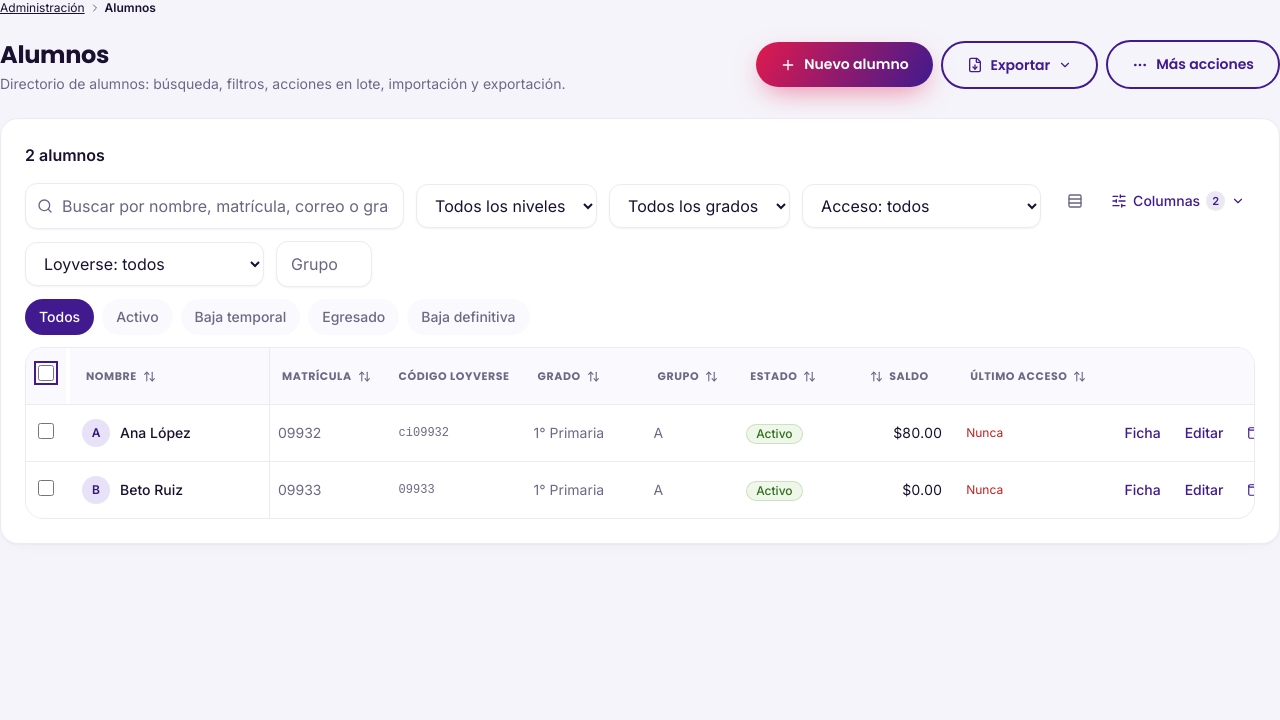
Test: AdminStudents on DataTable v2 (Data Ops Phase 3) › keyboard-only: select, pick a status, see the wallet warning in the plan, confirm
Check: the link "Ana López" is shown, box [120, 423, 191, 443]
Type keys " "
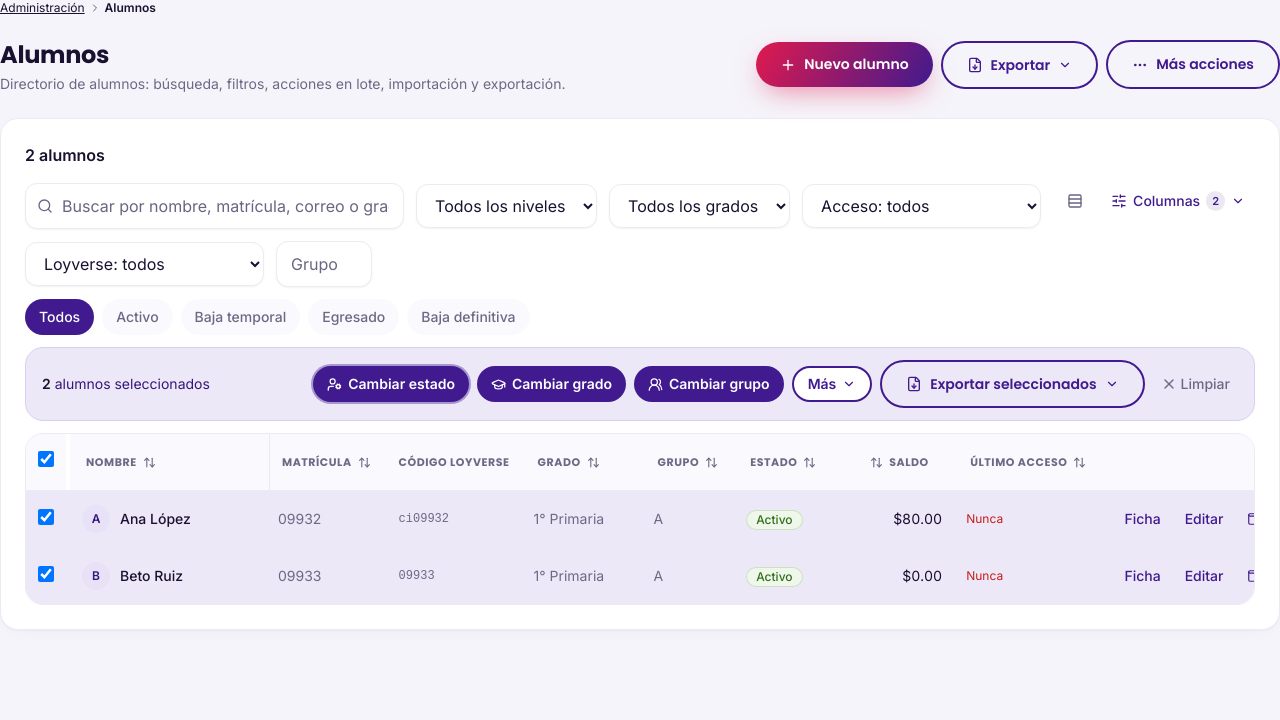
Check: the element named "Acciones en lote" shows "2 alumnos seleccionados", box [25, 347, 1255, 421]
Press Enter
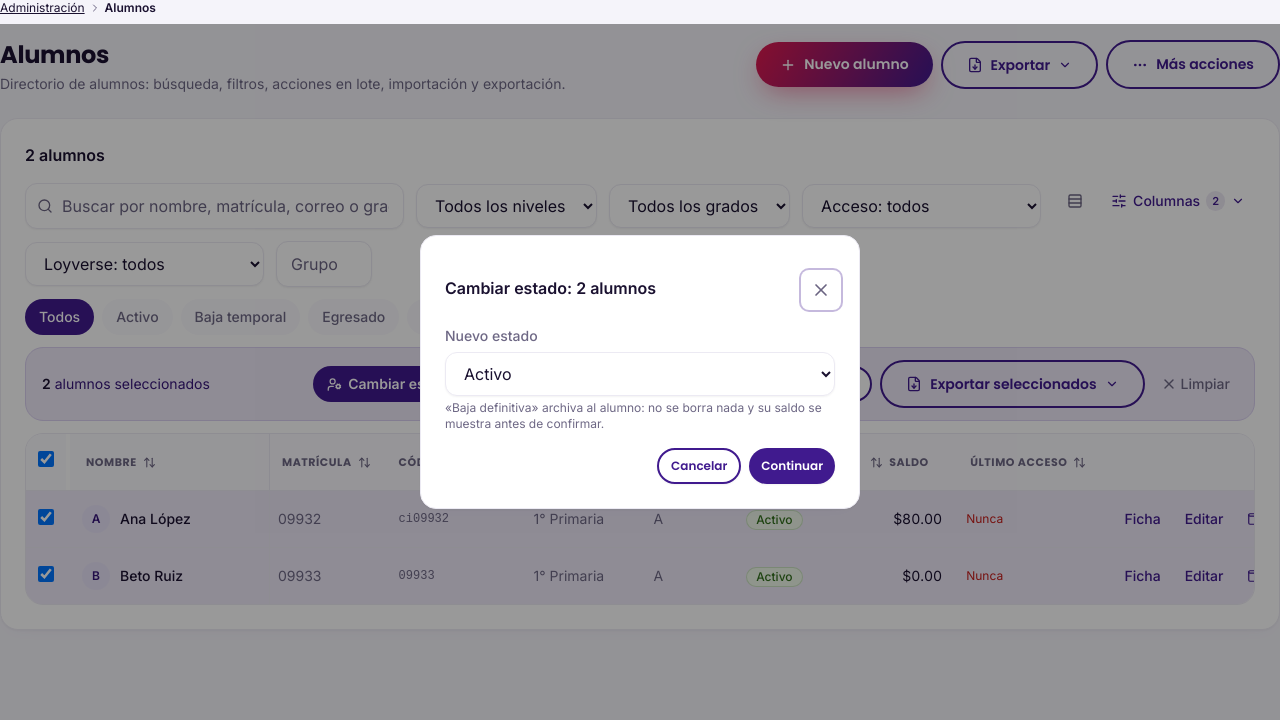
Select "Baja definitiva" in the dropdown labelled "Nuevo estado". click: (640, 374)
box: [445, 352, 835, 396]
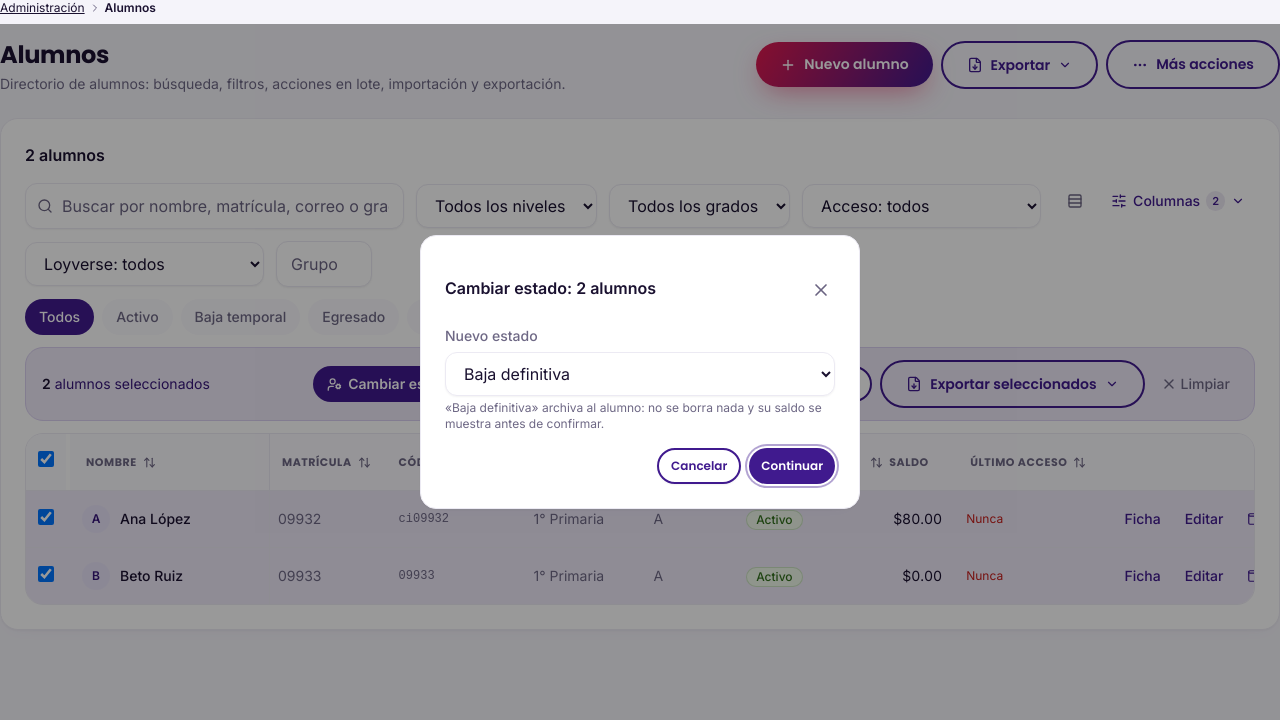
Press Enter
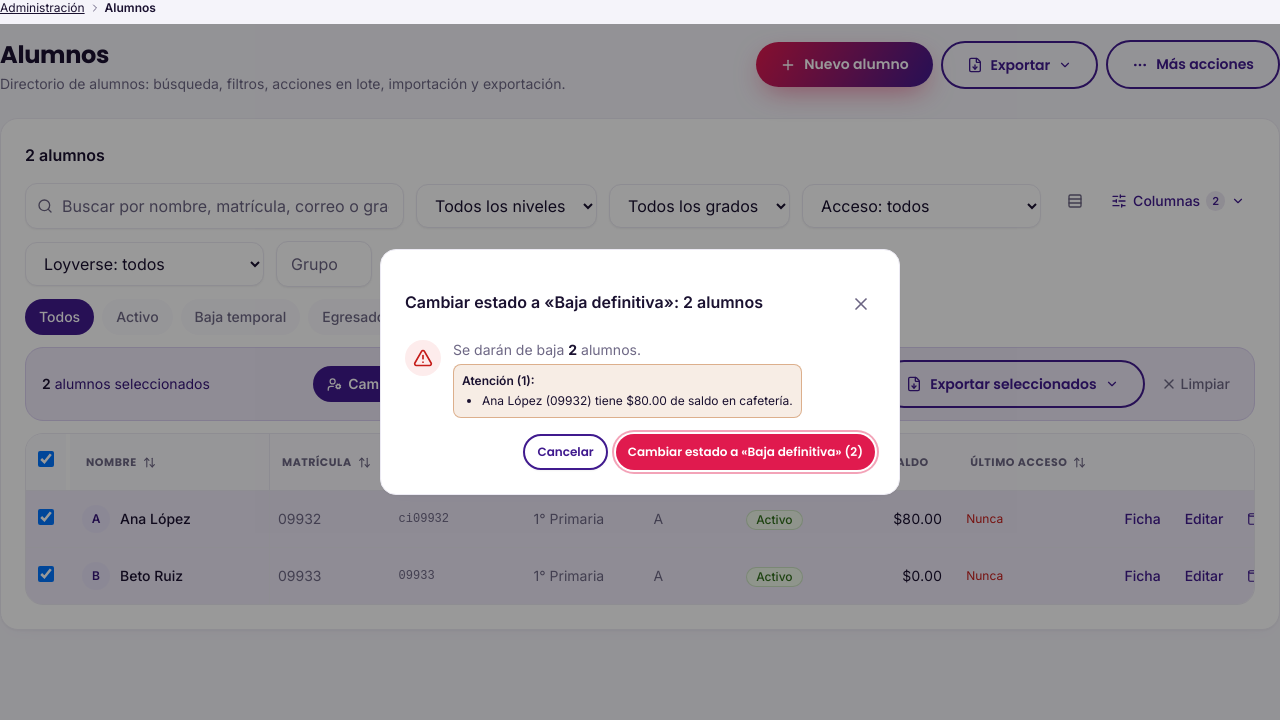
Check: the list named "Avisos" shows "Ana López (09932) tiene $80.00", box [482, 393, 793, 408]
Press Enter
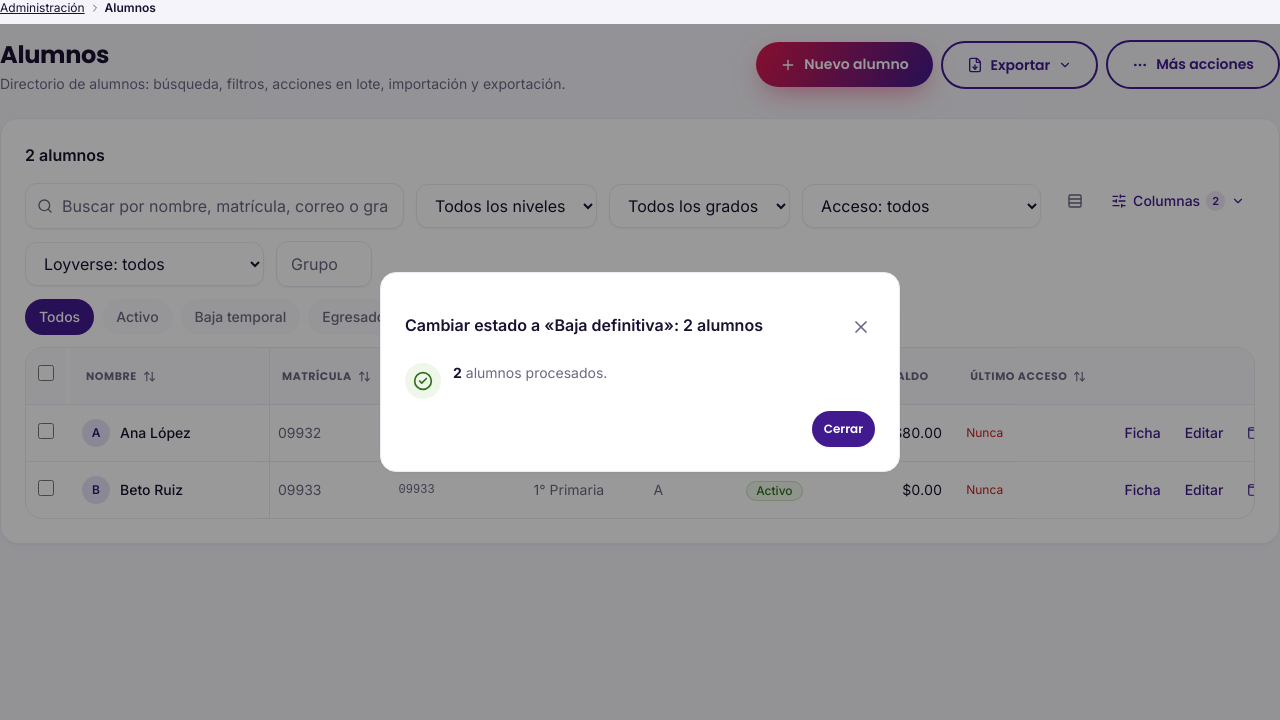
Check: the text "2 alumnos procesados." is shown, box [453, 363, 607, 383]
